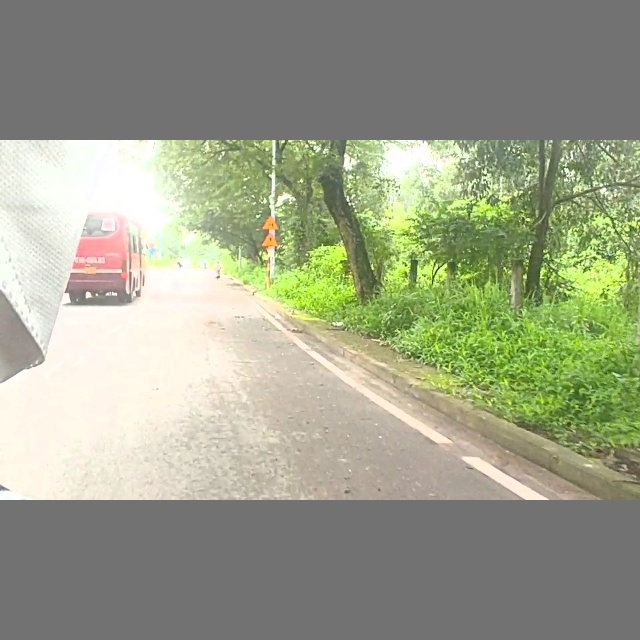W.205c: (257, 213, 284, 231)
W.224: (256, 233, 287, 247)
